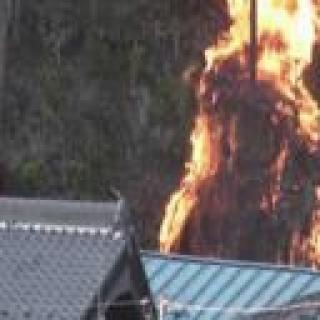fire: (163, 0, 320, 269)
